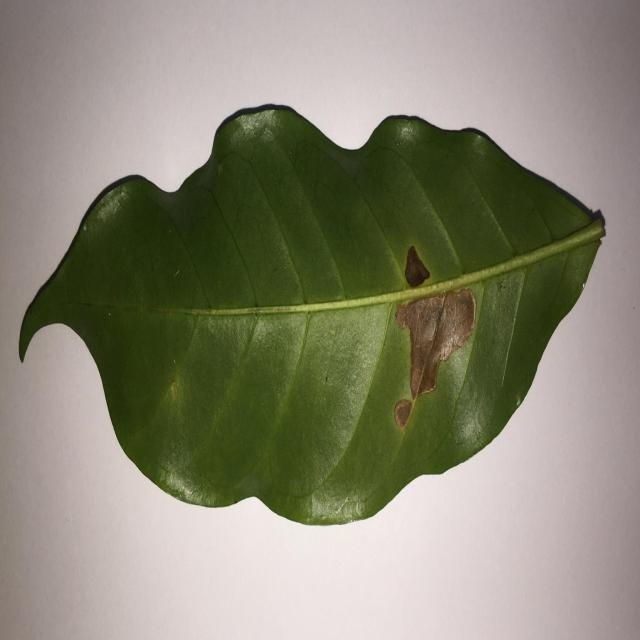Plaga-Minador: (16, 105, 606, 529)
